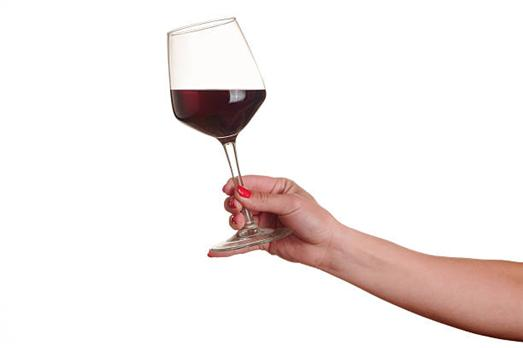alcohol: (166, 16, 296, 257)
